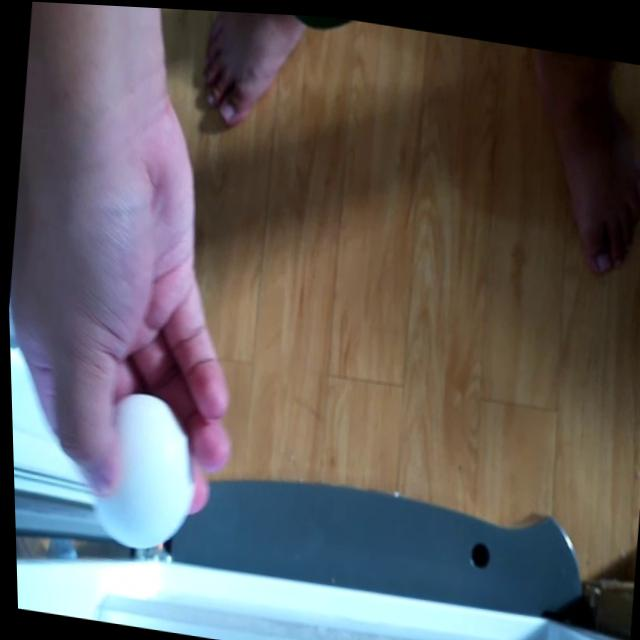egg: (75, 383, 201, 553)
